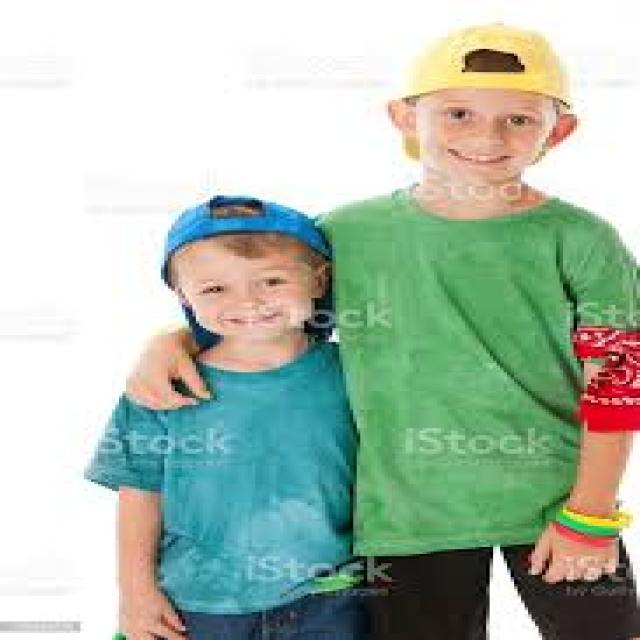cap: (385, 14, 577, 158), (140, 186, 364, 305)
